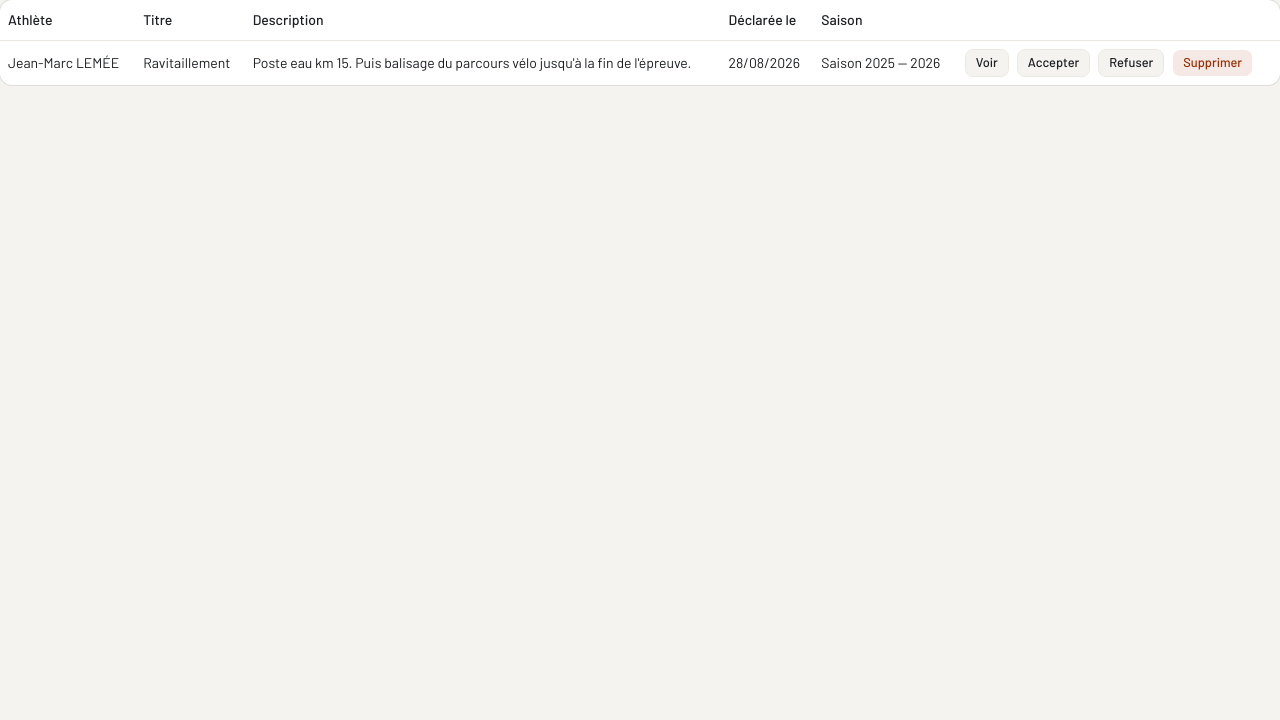
Scenario: AdminVolunteerActionsTable › Voir ouvre le détail avec le texte complet, la saison, la date et la fiche athlète
Step 1. Click the button with aria-label "Voir la déclaration « Ravitaillement » de Jean-Marc LEMÉE" → (987, 62), box 965,48 -> 1009,76
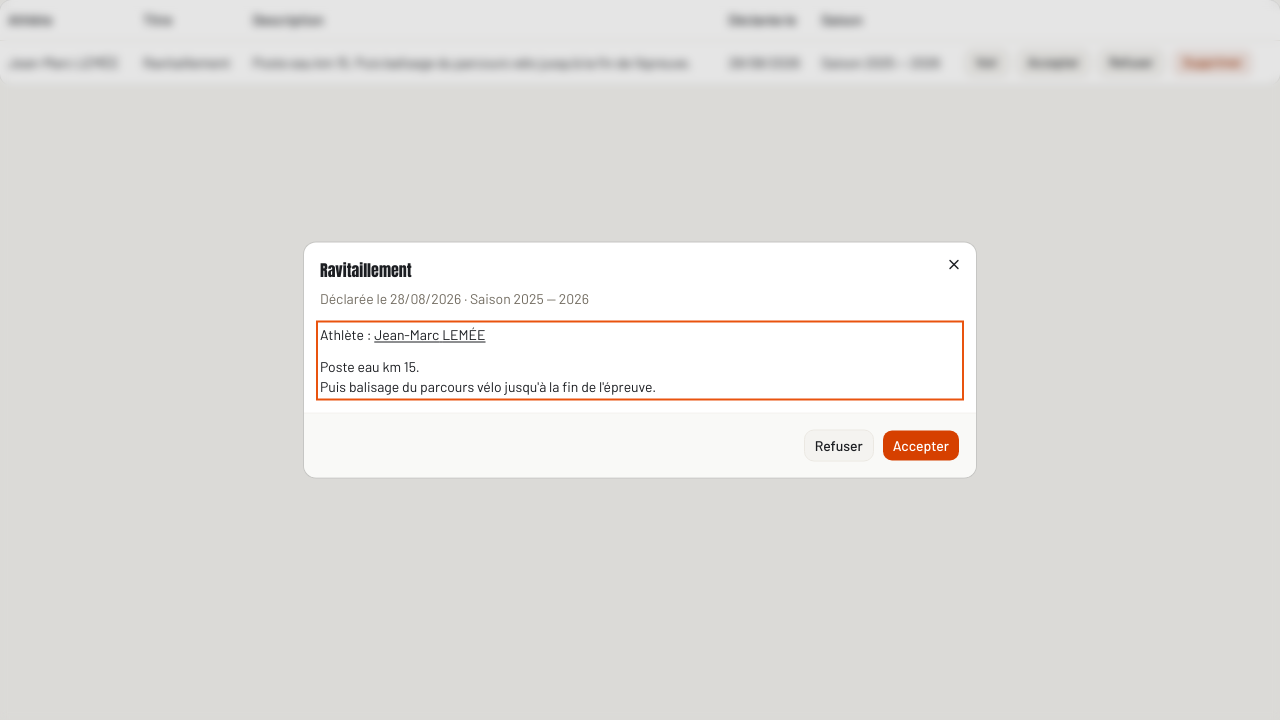
expect the heading "Ravitaillement" is shown: met, box 320,258 -> 412,282
